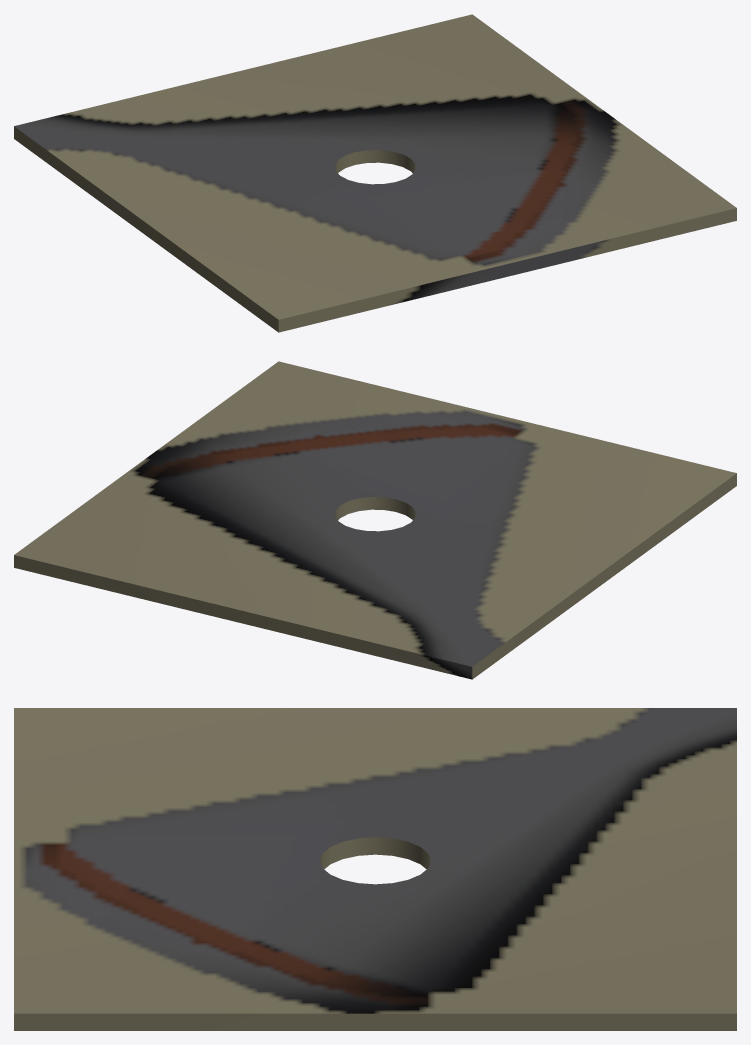
The model's file is FloppyDisc.fbx.
3 views of the same model, one above another, from view 1: azimuth 30°, elevation 25°; view 2: azimuth 150°, elevation 25°; view 3: azimuth 270°, elevation 25° (orthographic). The views are drawn at different scales.
Parts seen in each view (by area): view 1: FloppyDisc; view 2: FloppyDisc; view 3: FloppyDisc.
Boxes of the visible parts, x1,y1,x2,y2 form: FloppyDisc: (14, 14, 736, 332); FloppyDisc: (14, 361, 736, 679); FloppyDisc: (14, 708, 736, 1030).
Bounding box in the file's own units: 3.84 × 0.1019 × 3.84.
